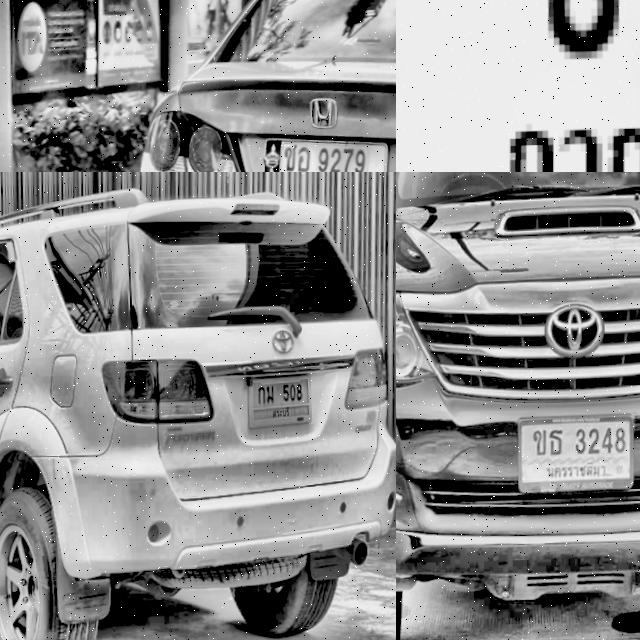license-plate: (396, 0, 640, 172), (516, 412, 639, 494), (260, 124, 396, 172), (247, 369, 318, 427)
